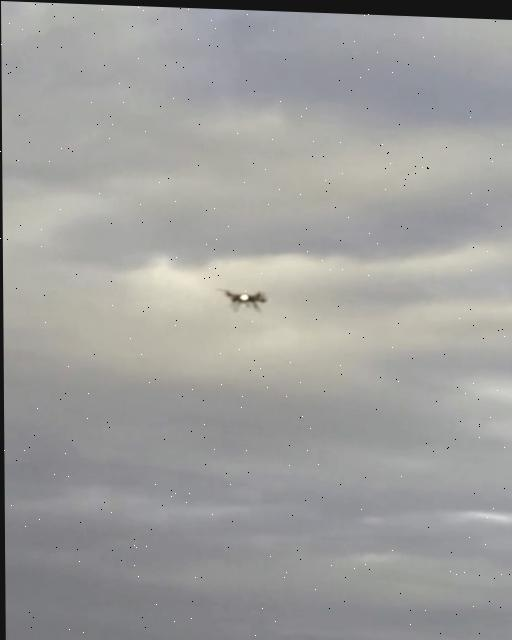drone: (222, 284, 270, 314)
